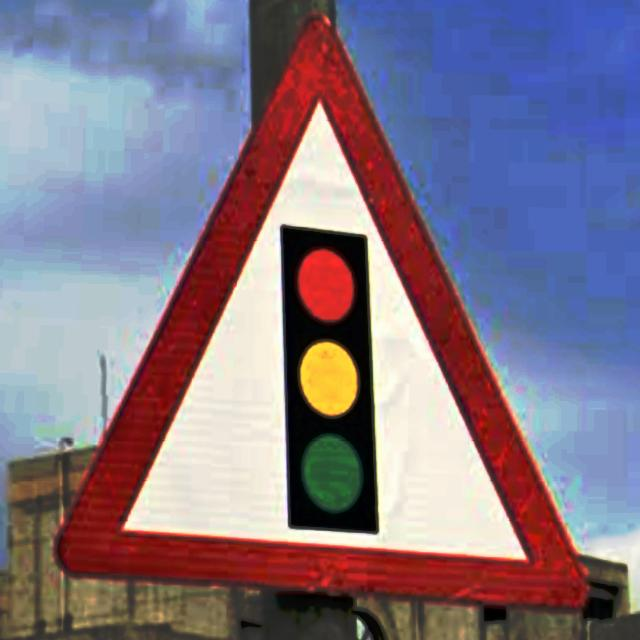signalahead: (53, 14, 592, 614)
